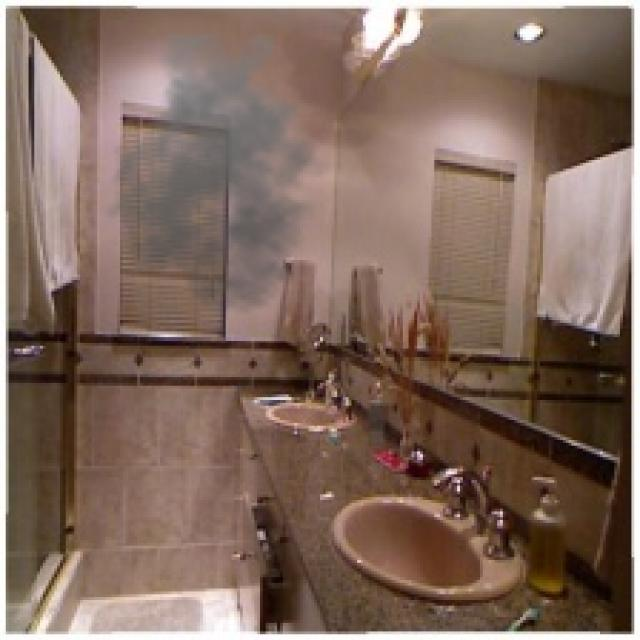smoke: (103, 34, 343, 314)
